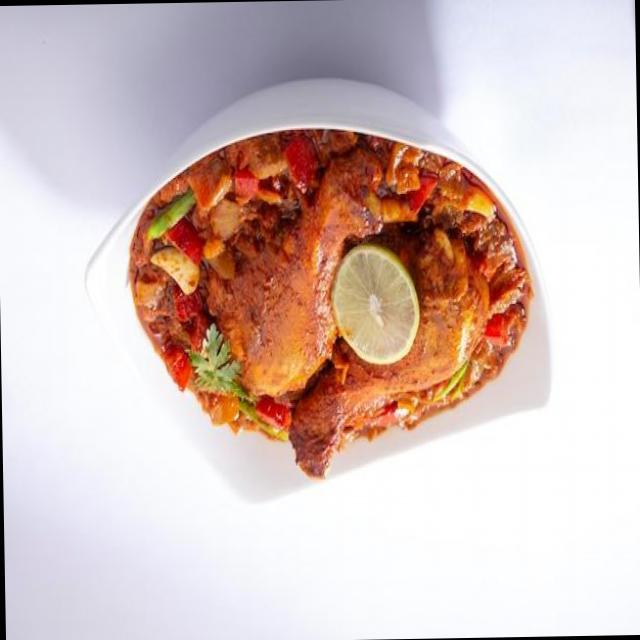chicken: (112, 137, 537, 465)
